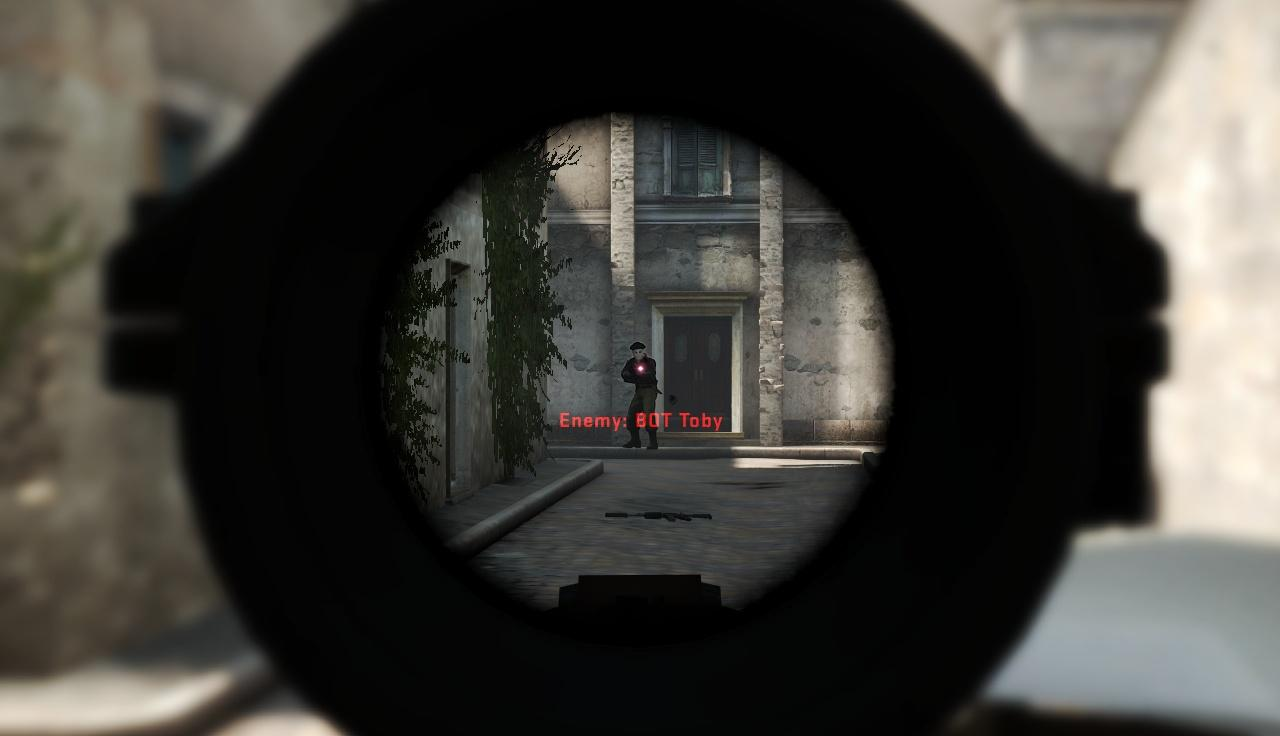tt: (622, 342, 656, 450)
tthead: (632, 342, 644, 359)
